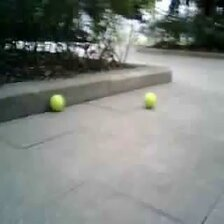tennis: (143, 93, 156, 110), (50, 94, 64, 108)
